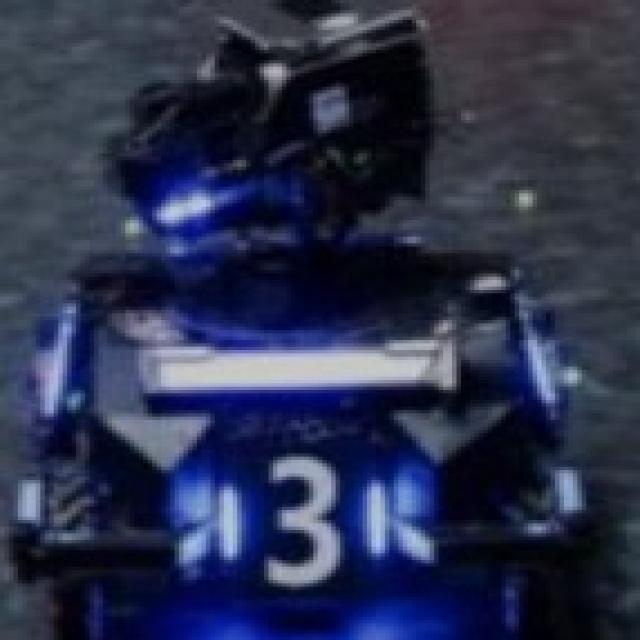B3: (215, 453, 389, 587)
